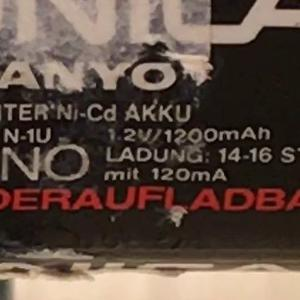keyword: (41, 95, 125, 121)
